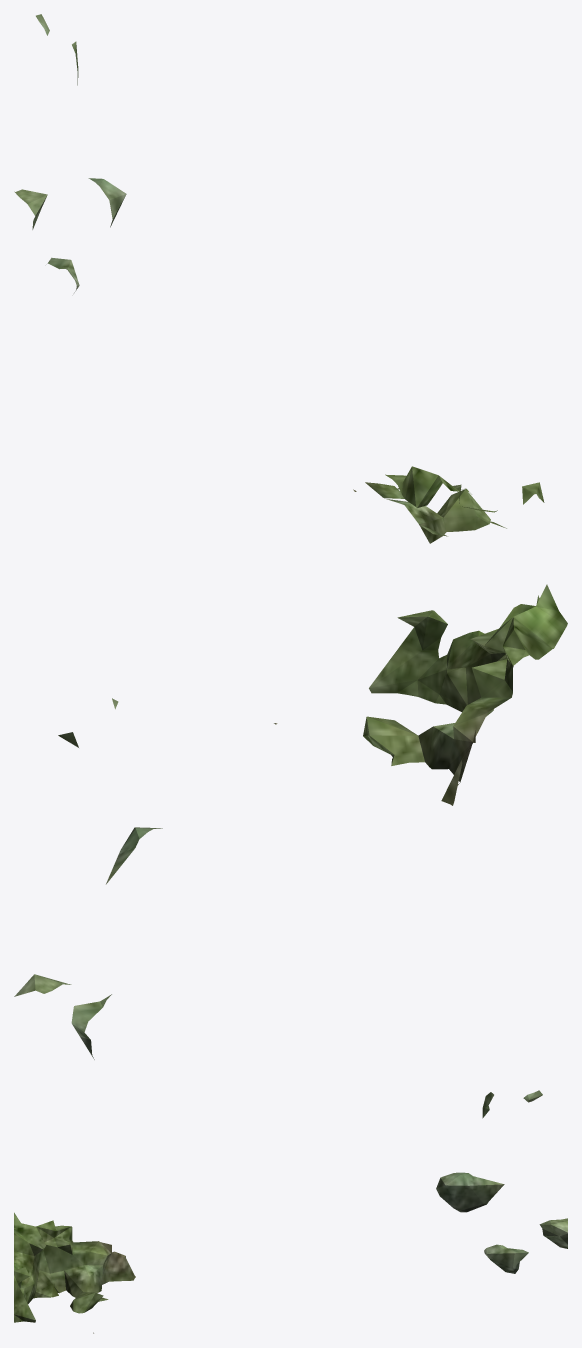
3 renders of one model, top to bottom at view 1: azimuth 30°, elevation 25°; view 2: azimuth 150°, elevation 25°; view 3: azimuth 270°, elevation 25°, orthographic. The views are drawn at different scales.
Bounding box in the file's own units: 1.43 × 2.2 × 5.9.
Materials: 1 (1 with a texture image).
